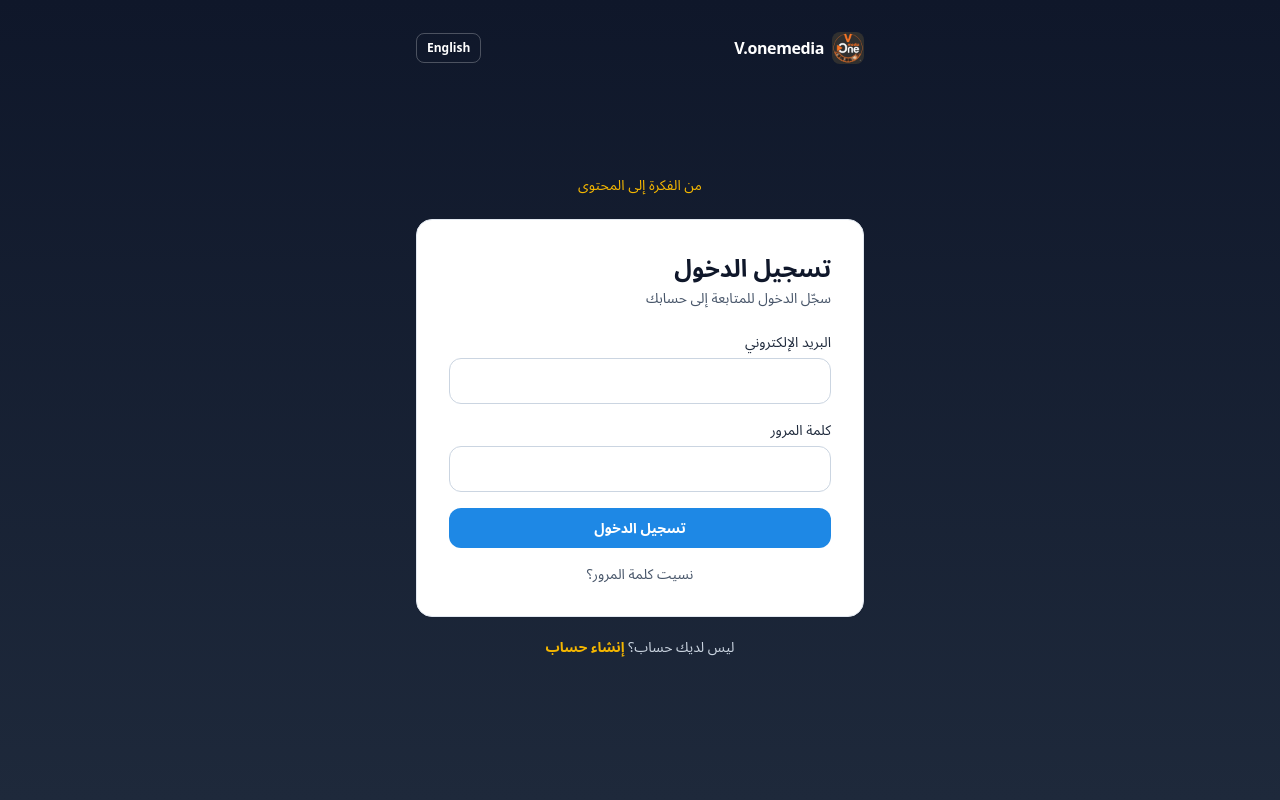
Test: login page › re-enables the submit button after a failure so the user can retry
The image size is (1280, 800).
Type "  adel@example.com  " into the field labelled "البريد الإلكتروني" at [640, 381], box [449, 358, 831, 404]
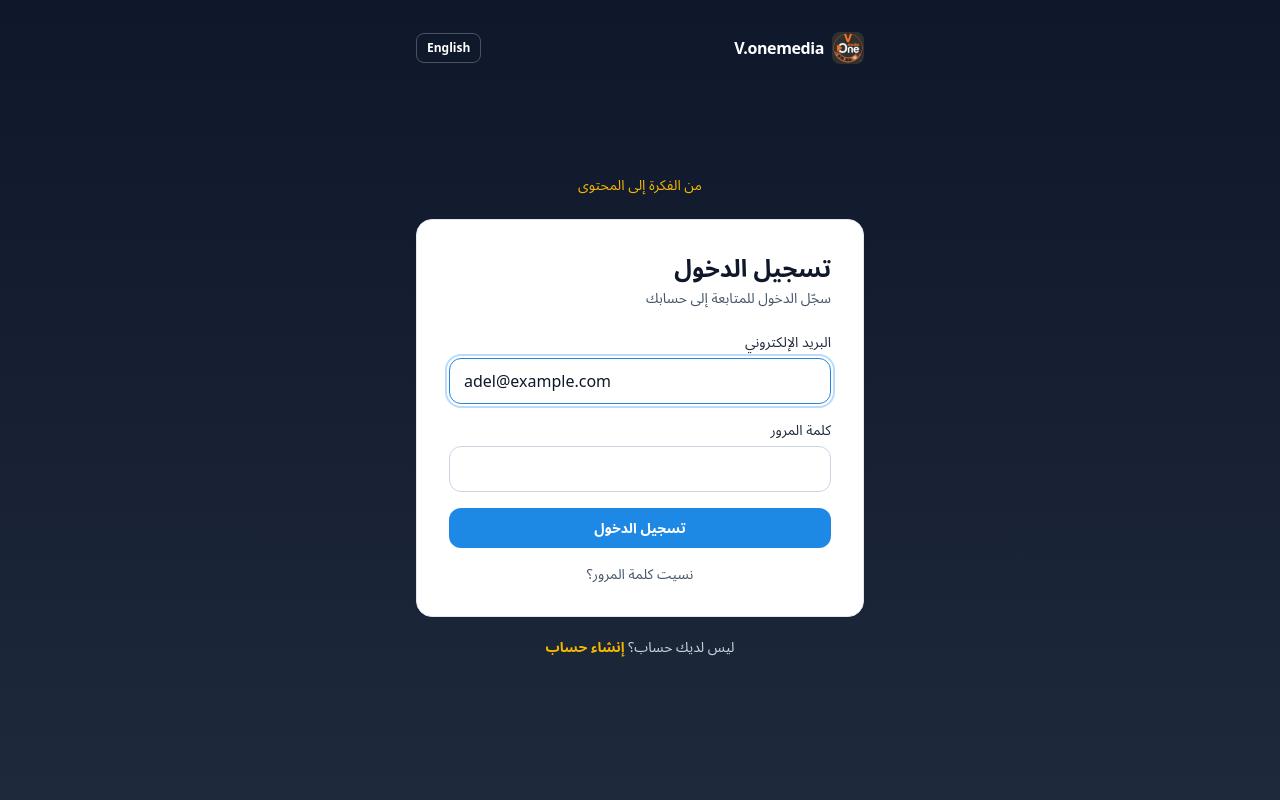
Type "SuperSecret123" into the password field labelled "كلمة المرور" at [640, 469], box [449, 446, 831, 492]
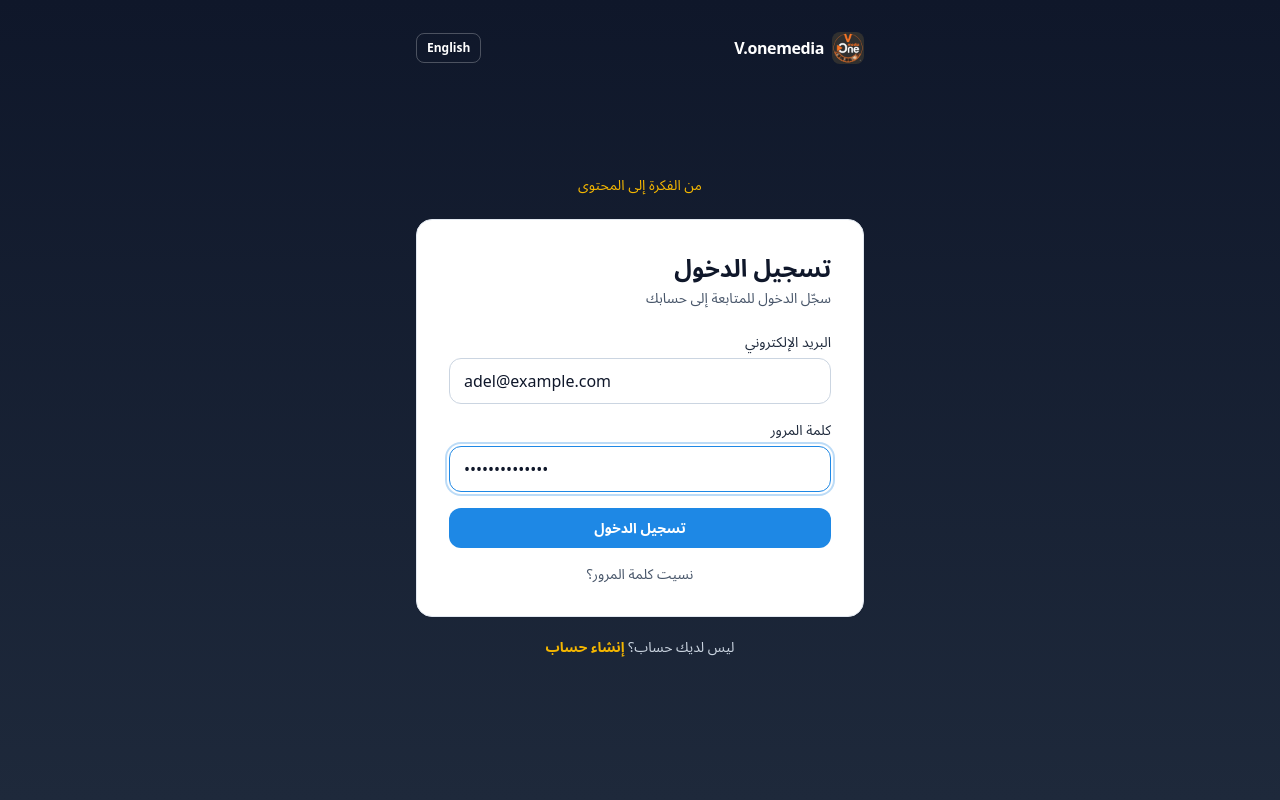
Click the button "تسجيل الدخول" at [640, 528], box [449, 508, 831, 548]
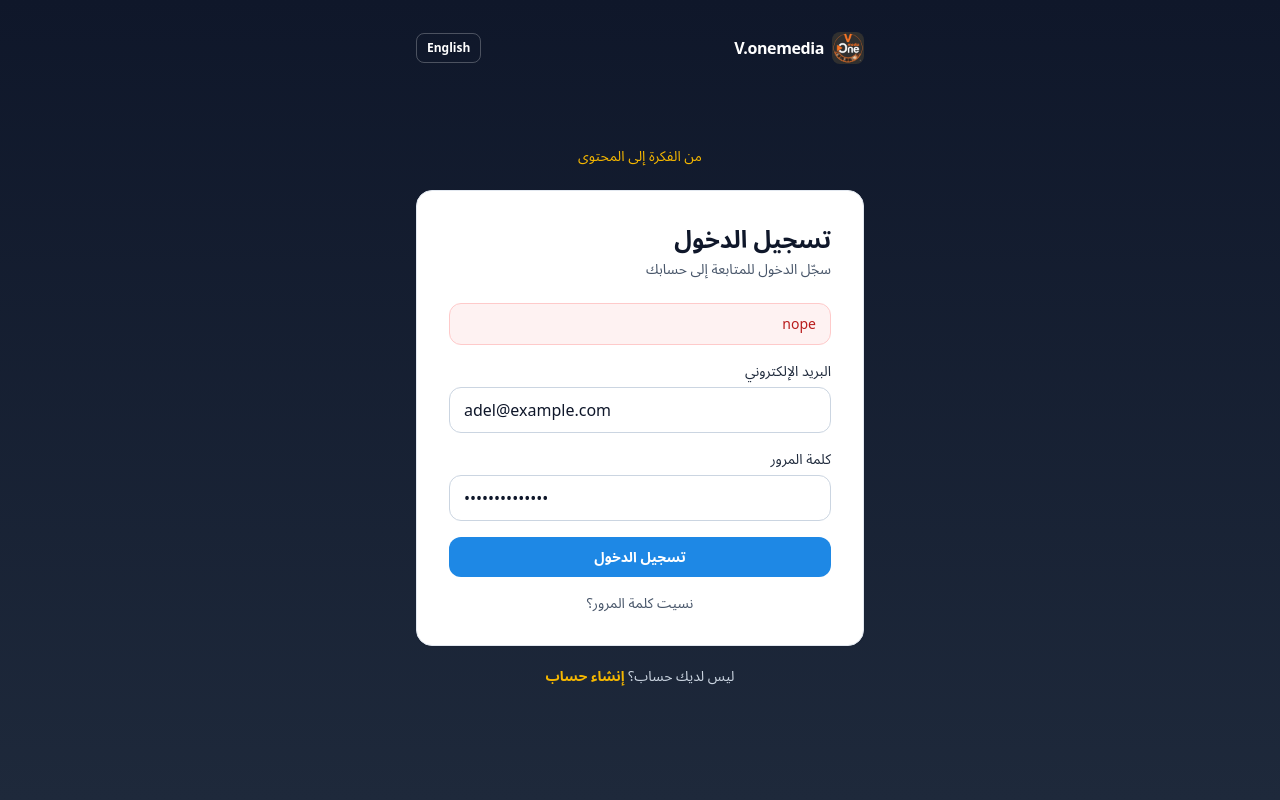
Expected: the button "تسجيل الدخول" is enabled, [449, 537, 831, 577]
Result: the message "nope" is shown at [449, 303, 831, 345]
